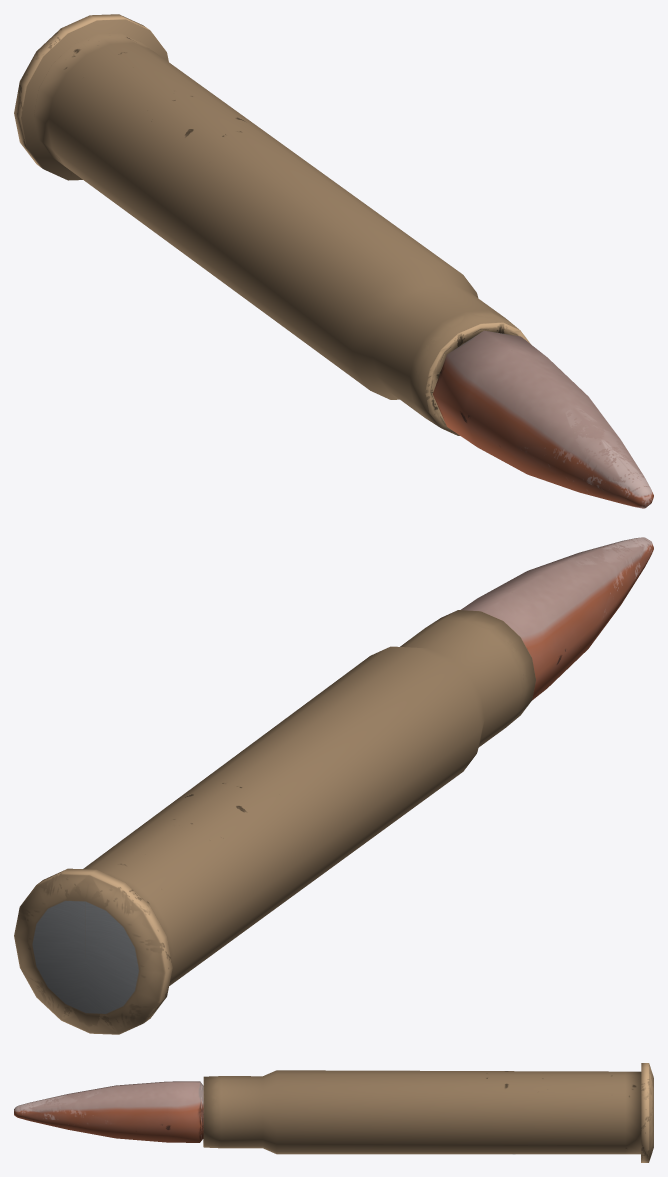
3 views of the same model, one above another, from view 1: azimuth 30°, elevation 25°; view 2: azimuth 150°, elevation 25°; view 3: azimuth 270°, elevation 25° (orthographic). The views are drawn at different scales.
Visible parts, largest first — view 1: Object_3_Baked; view 2: Object_3_Baked; view 3: Object_3_Baked.
Boxes of the visible parts, left/top/right/bottom form: Object_3_Baked: left=14, top=14, right=653, bottom=508; Object_3_Baked: left=14, top=537, right=653, bottom=1034; Object_3_Baked: left=14, top=1063, right=653, bottom=1162.
Bounding box in the file's own units: 0.17 × 1.09 × 0.1702.
1 material, 1 textured.
